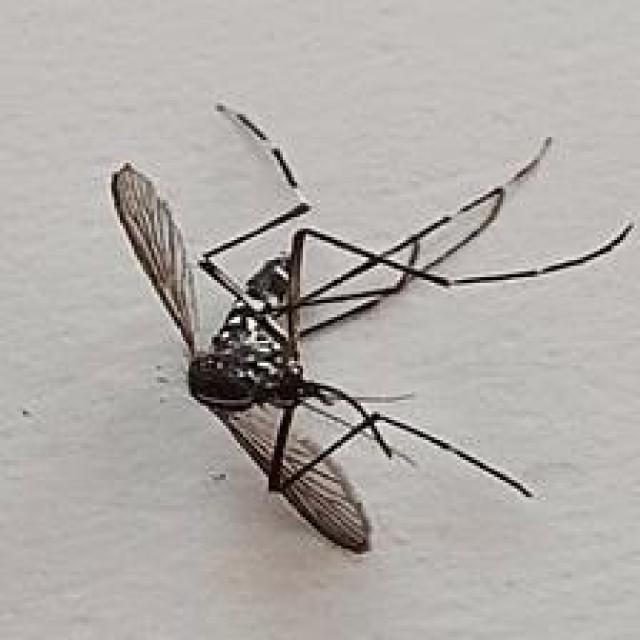Aedes albopictus: (107, 100, 636, 554)
